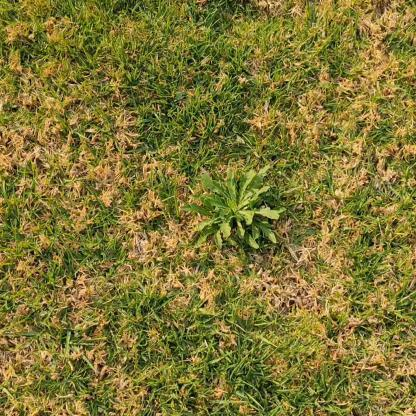Weeds: (180, 169, 285, 250)
